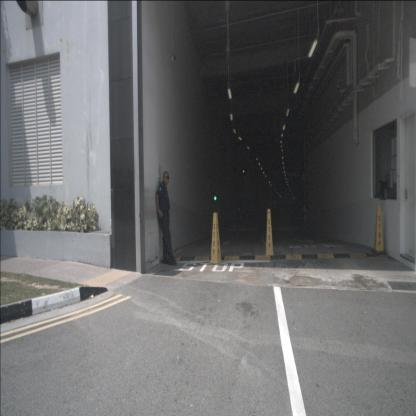movable_object-trafficcone: (371, 204, 386, 256), (210, 213, 222, 264), (265, 209, 274, 256)
